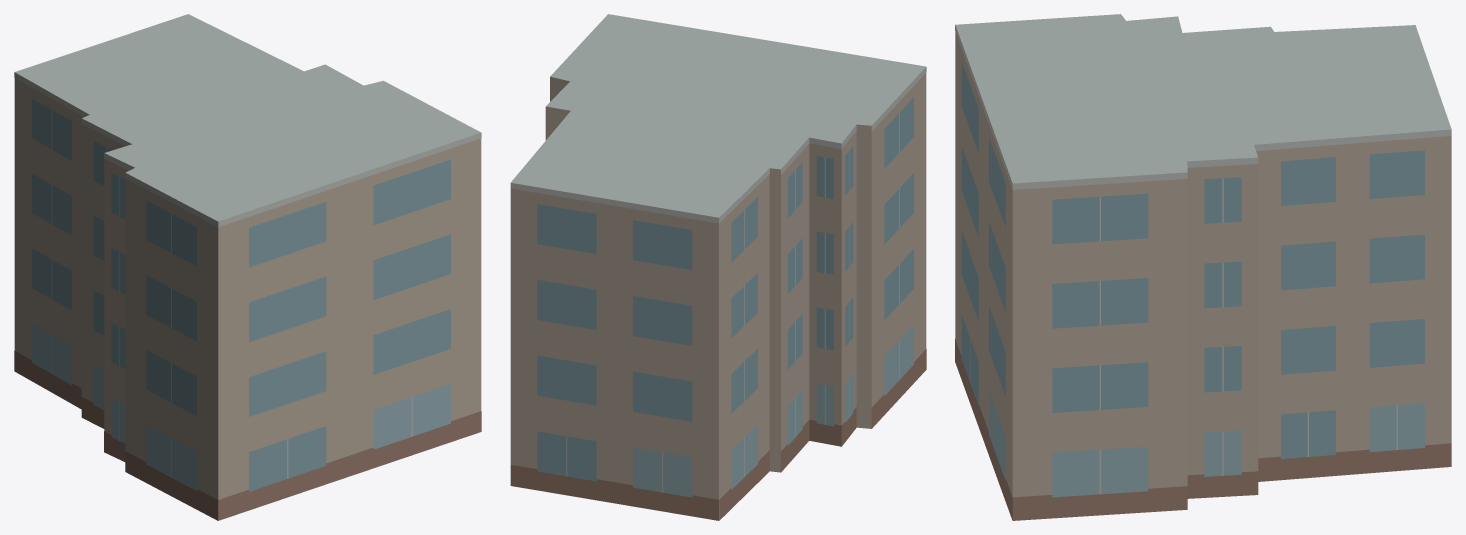
The model's file is survey-upis-32638001.glb.
The picture shows the model from 3 angles, left to right: view 1: azimuth 30°, elevation 25°; view 2: azimuth 150°, elevation 25°; view 3: azimuth 270°, elevation 25°; orthographic projection. The views are drawn at different scales.
Parts seen in each view (by area): view 1: survey-upis-32638001.tmp; view 2: survey-upis-32638001.tmp; view 3: survey-upis-32638001.tmp.
Part boxes in pixels (<box>): survey-upis-32638001.tmp: <box>14,14,481,520</box>; survey-upis-32638001.tmp: <box>510,14,926,520</box>; survey-upis-32638001.tmp: <box>955,14,1451,520</box>.
Bounding box in the file's own units: 13.8 × 12.8 × 17.08.
